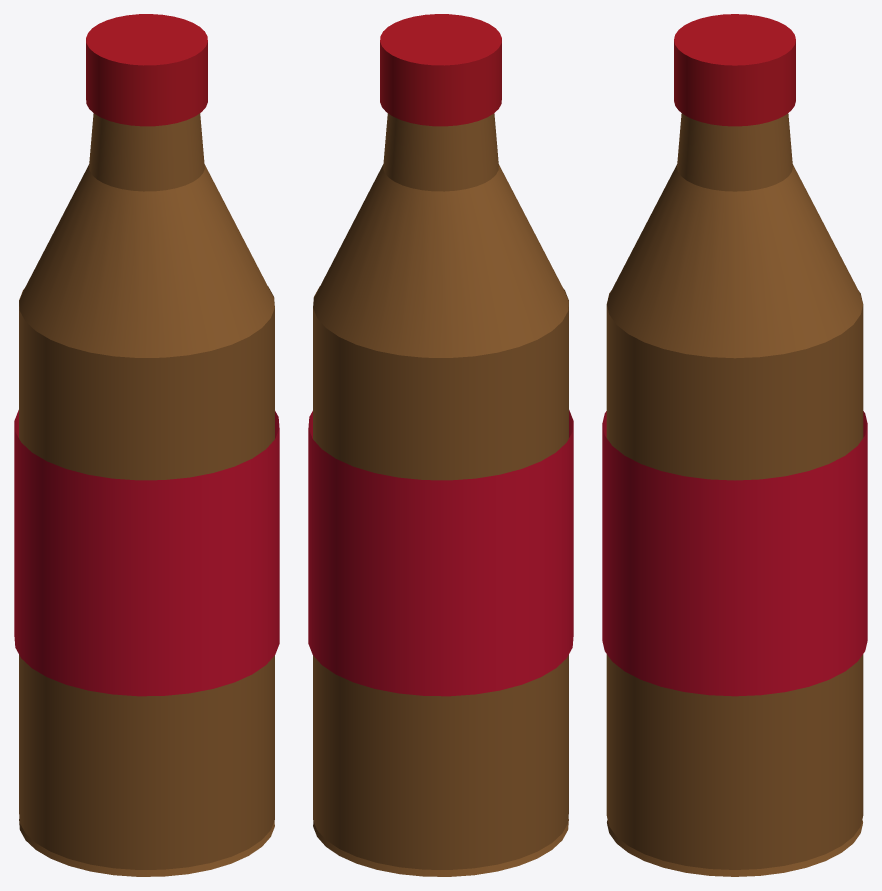
The model's file is botella.glb.
3 views of the same model, side by side, from view 1: azimuth 30°, elevation 25°; view 2: azimuth 150°, elevation 25°; view 3: azimuth 270°, elevation 25° (orthographic).
Size of the model in its own units: 0.0953 by 0.31 by 0.0953.
